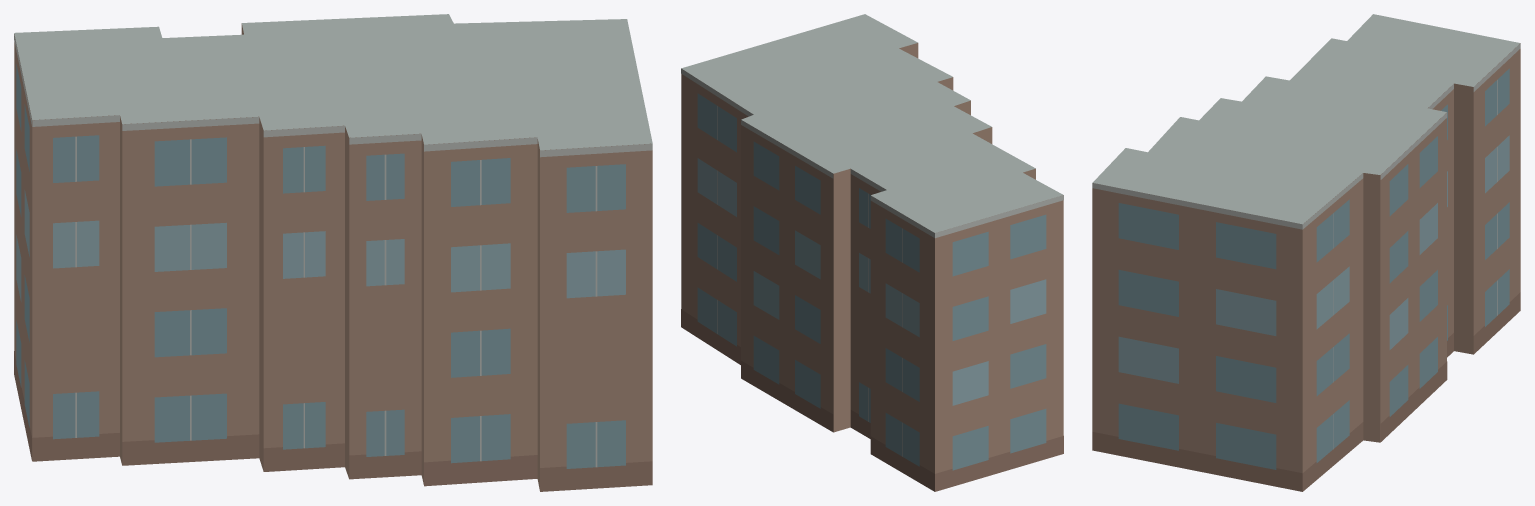
Rendered from survey-upis-32458171.glb.
3 views of the same model, side by side, from view 1: azimuth 30°, elevation 25°; view 2: azimuth 150°, elevation 25°; view 3: azimuth 270°, elevation 25° (orthographic). The views are drawn at different scales.
Visible parts, largest first — view 1: survey-upis-32458171.tmp; view 2: survey-upis-32458171.tmp; view 3: survey-upis-32458171.tmp.
Part boxes in pixels (<box>): survey-upis-32458171.tmp: <box>14,14,652,491</box>; survey-upis-32458171.tmp: <box>681,14,1063,491</box>; survey-upis-32458171.tmp: <box>1092,14,1520,491</box>.
Bounding box in the file's own units: 20.57 × 12.2 × 17.7.
